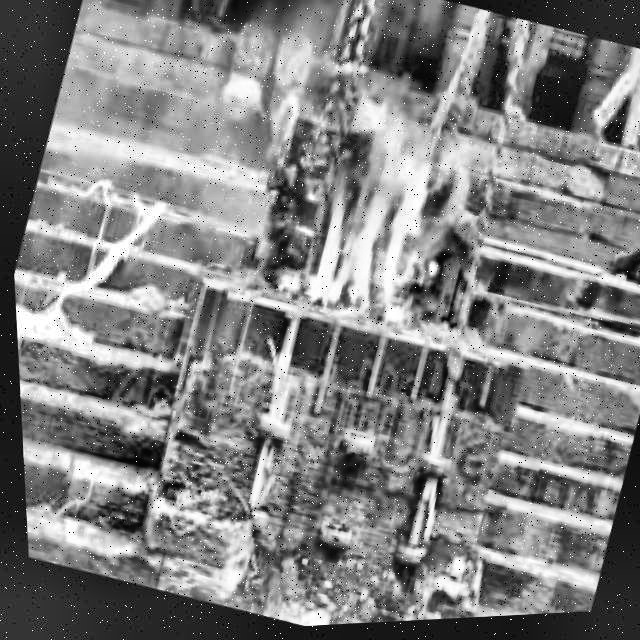Fire: (275, 83, 460, 339)
